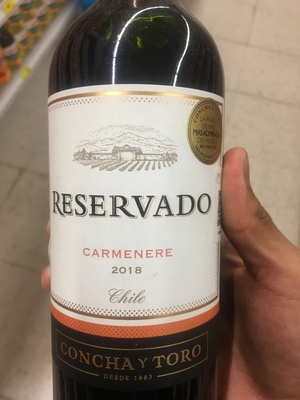reservado carmenere: (44, 21, 224, 400)
